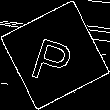P_N: (29, 25, 81, 85)
